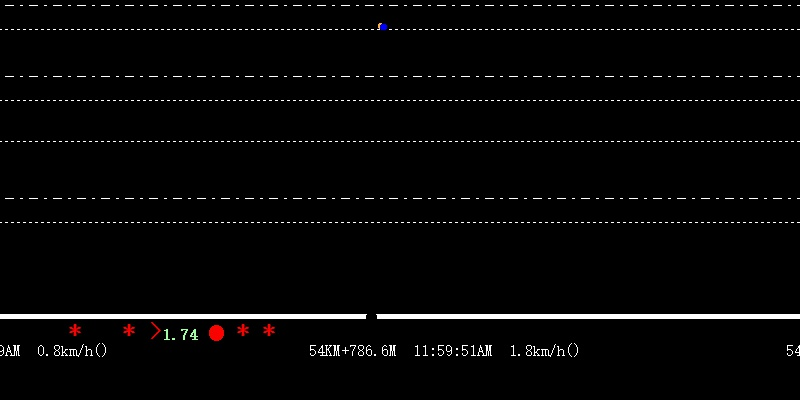circle: (208, 322, 228, 344)
face_s: (375, 20, 388, 35)
star: (260, 320, 277, 339), (68, 320, 84, 339), (120, 321, 136, 340), (236, 321, 252, 338)
